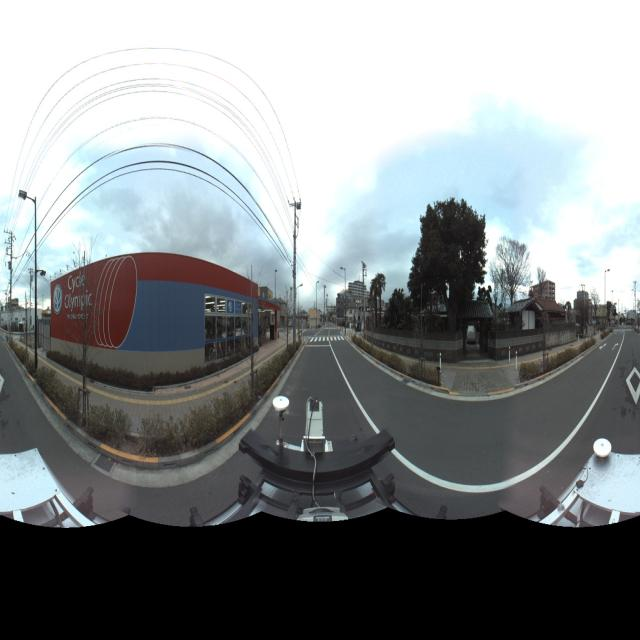b_1: (339, 277, 371, 336)
